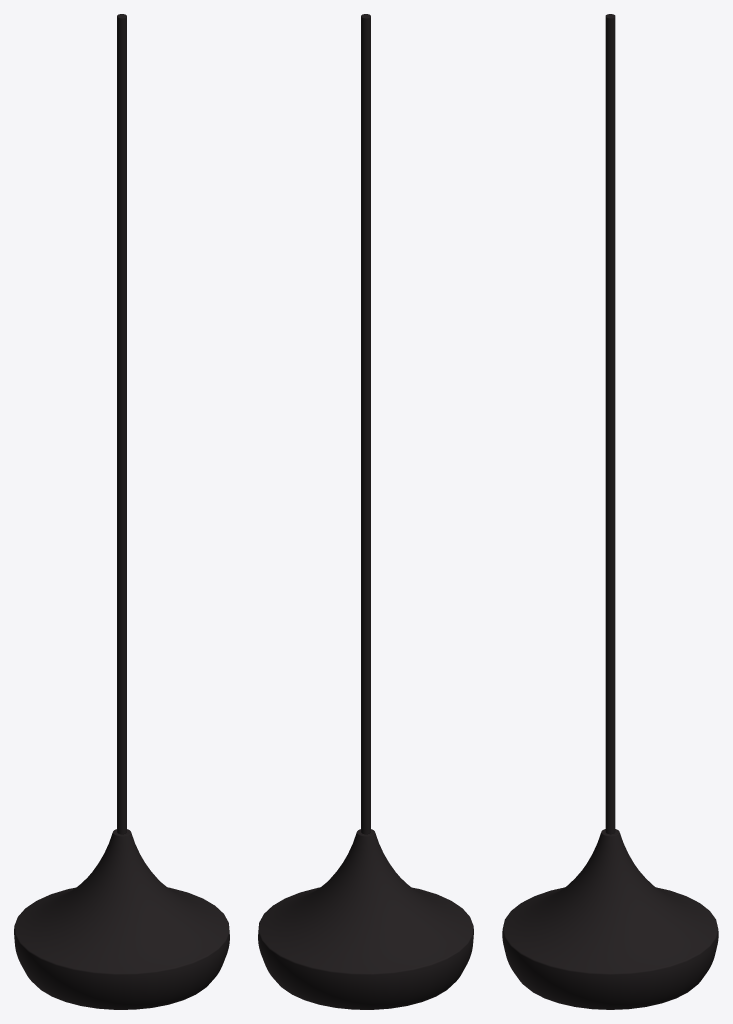
File: Ceiling Lamp_Version_01.fbx
The picture shows the model from 3 angles, left to right: view 1: azimuth 30°, elevation 25°; view 2: azimuth 150°, elevation 25°; view 3: azimuth 270°, elevation 25°; orthographic projection.
Visible parts, largest first — view 1: Lamp; view 2: Lamp; view 3: Lamp.
Boxes of the visible parts, x1,y1,x2,y2 form: Lamp: (14, 14, 229, 1009); Lamp: (258, 14, 473, 1009); Lamp: (502, 14, 718, 1009).
Bounding box in the file's own units: 47.1 × 47.1 × 229.
2 materials, 2 textured.
